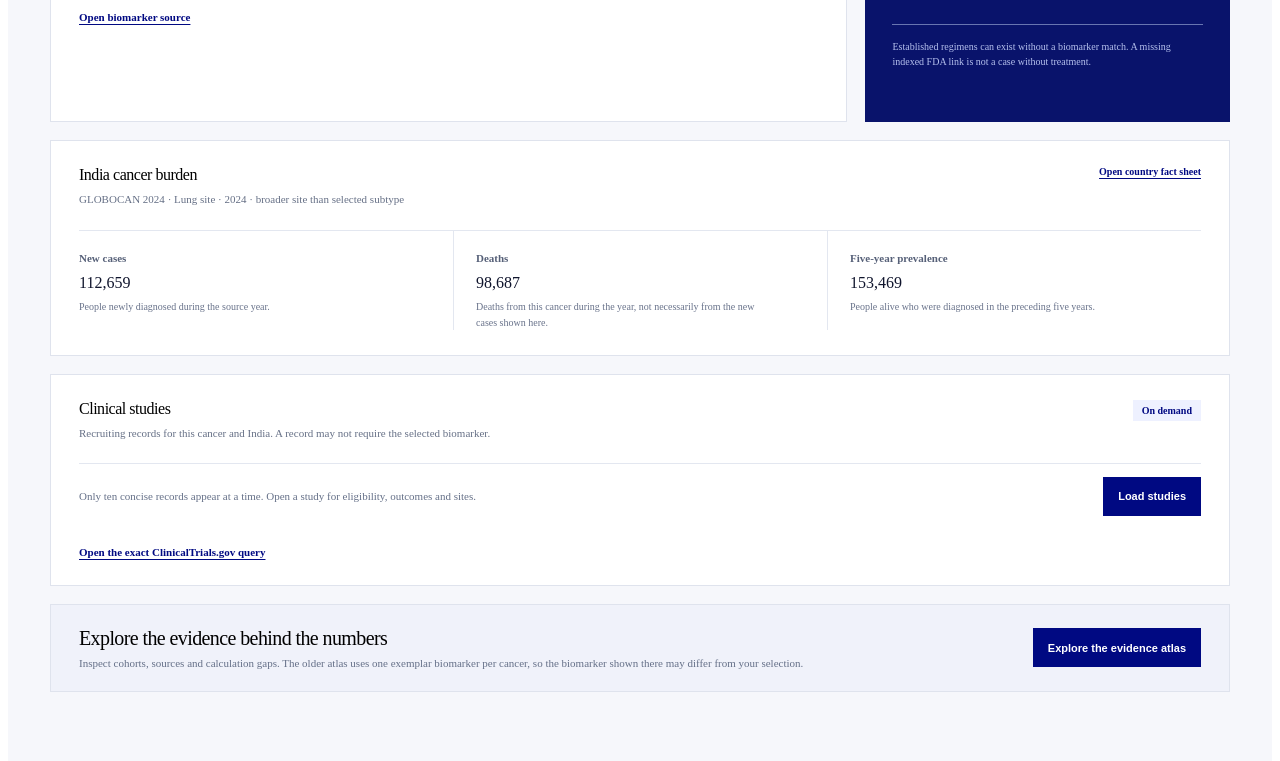
Test: discovery-first workspace › shows compact trials and opens full details on demand
(page scrolled)
Click the button "Load studies" at (1152, 496), box [1103,477,1201,516]
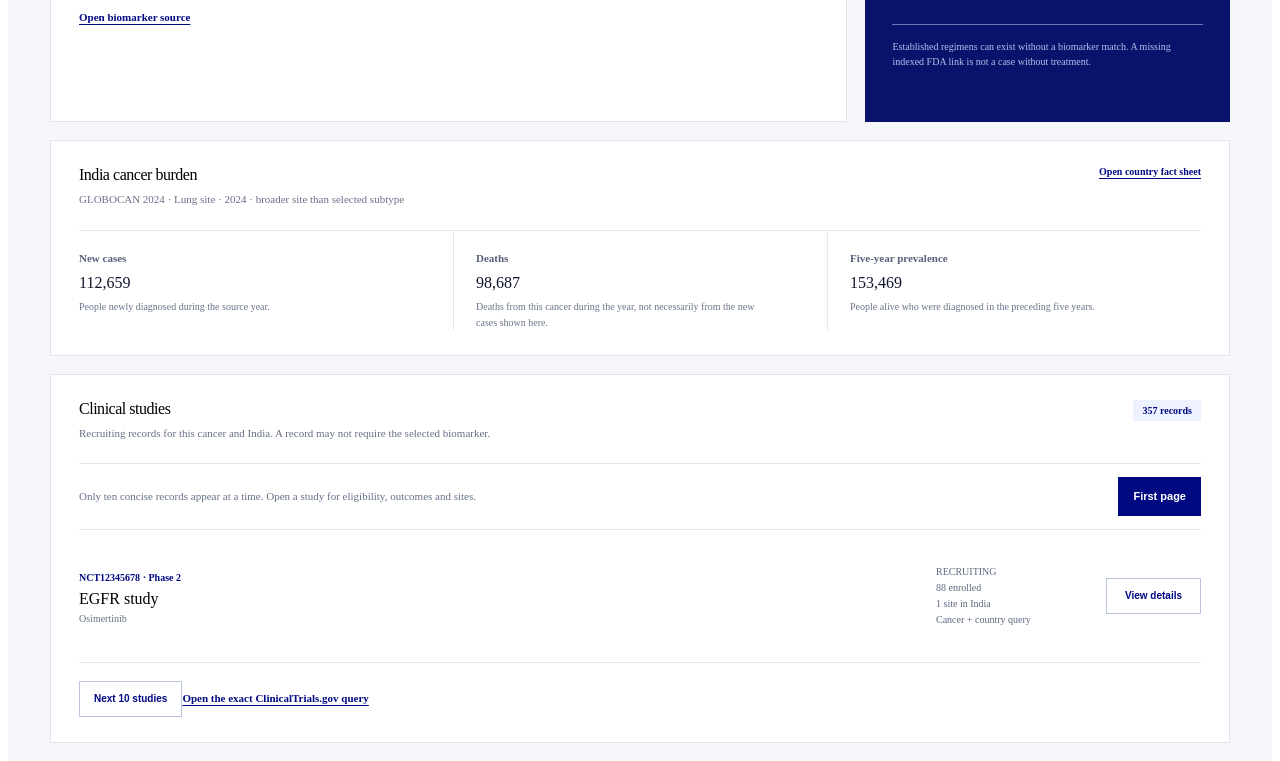
Expected: the text "357 records" is shown, [1134,400,1201,421]
Expected: the heading "EGFR study" is shown, [79,590,159,607]
Expected: the text "1 site in India" is shown, [936,598,991,609]
Click the button "View details" at (1154, 596), box [1106,578,1201,614]
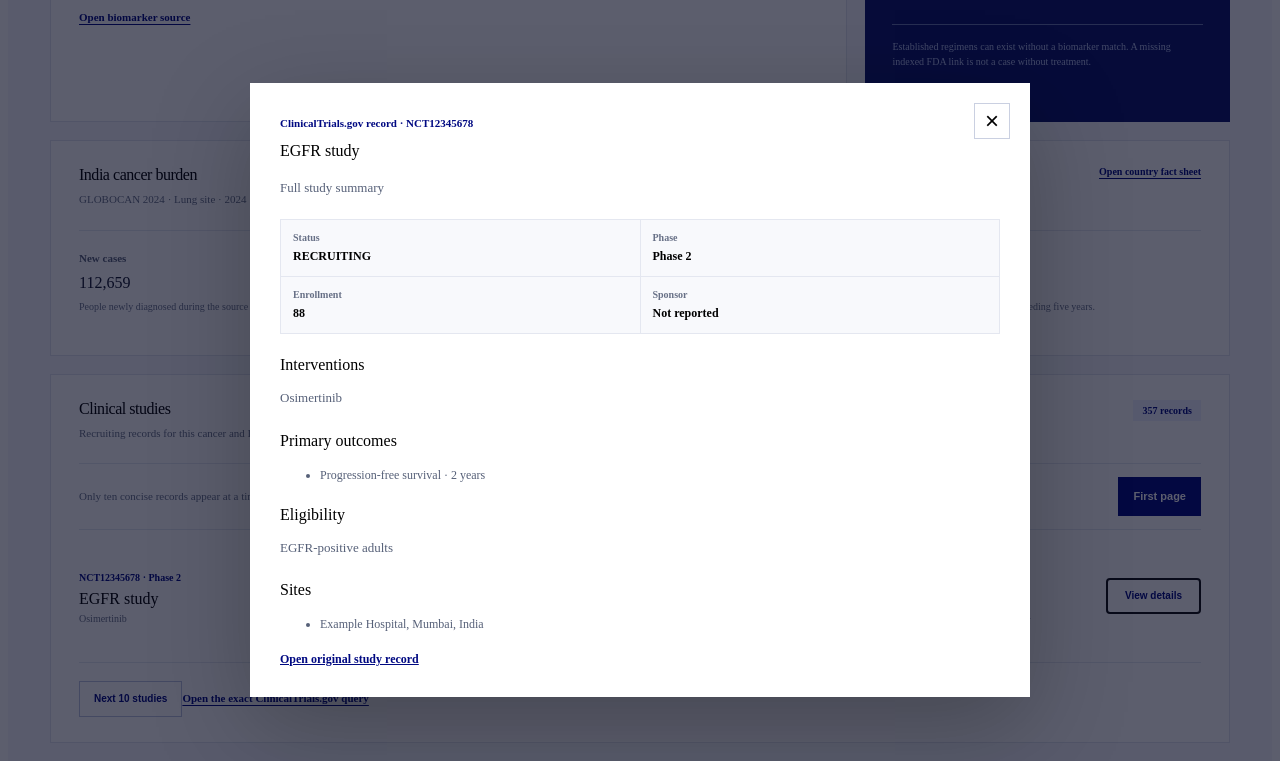
Expected: the dialog named "Clinical study details" is shown, [250,83,1030,697]
Expected: the text "EGFR-positive adults" is shown, [280,540,393,554]
Expected: the list item "Progression-free survival · 2 years" is shown, [320,468,485,482]
Press Escape
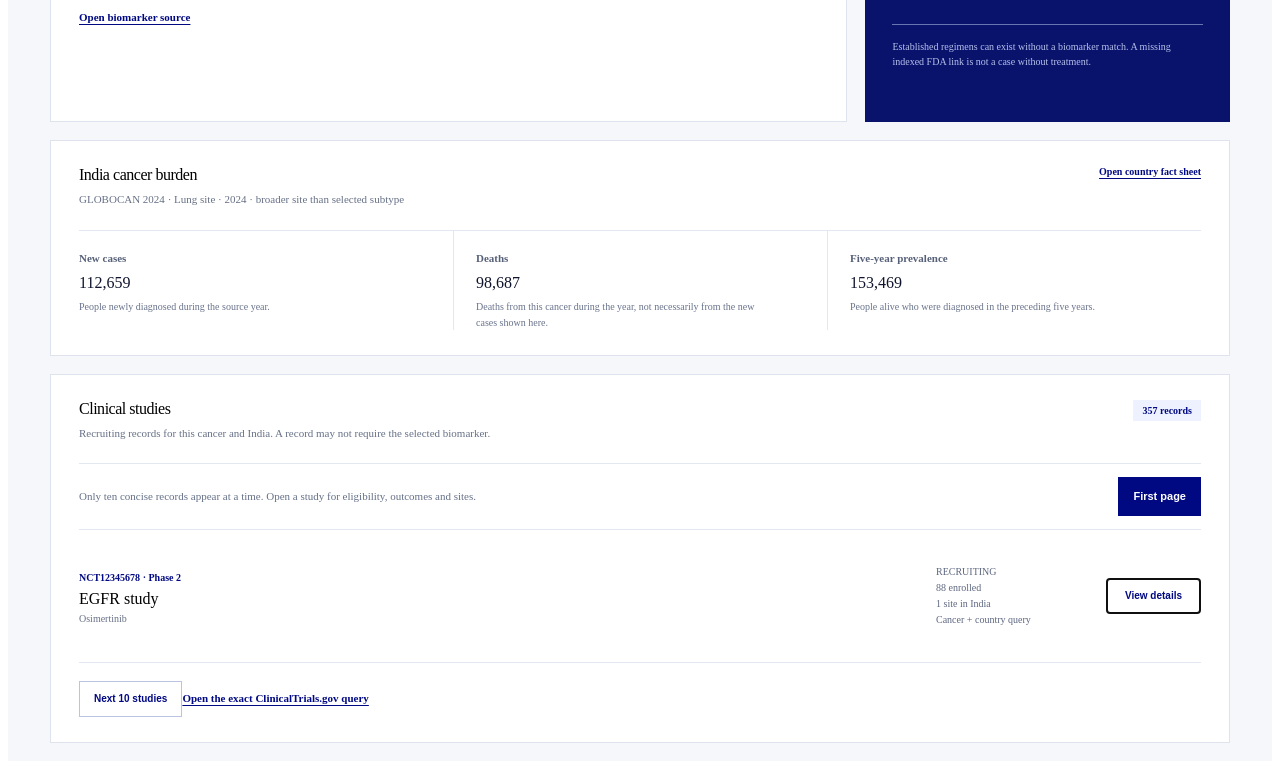
Click the button "Next 10 studies" at (131, 699), box [79,681,182,717]
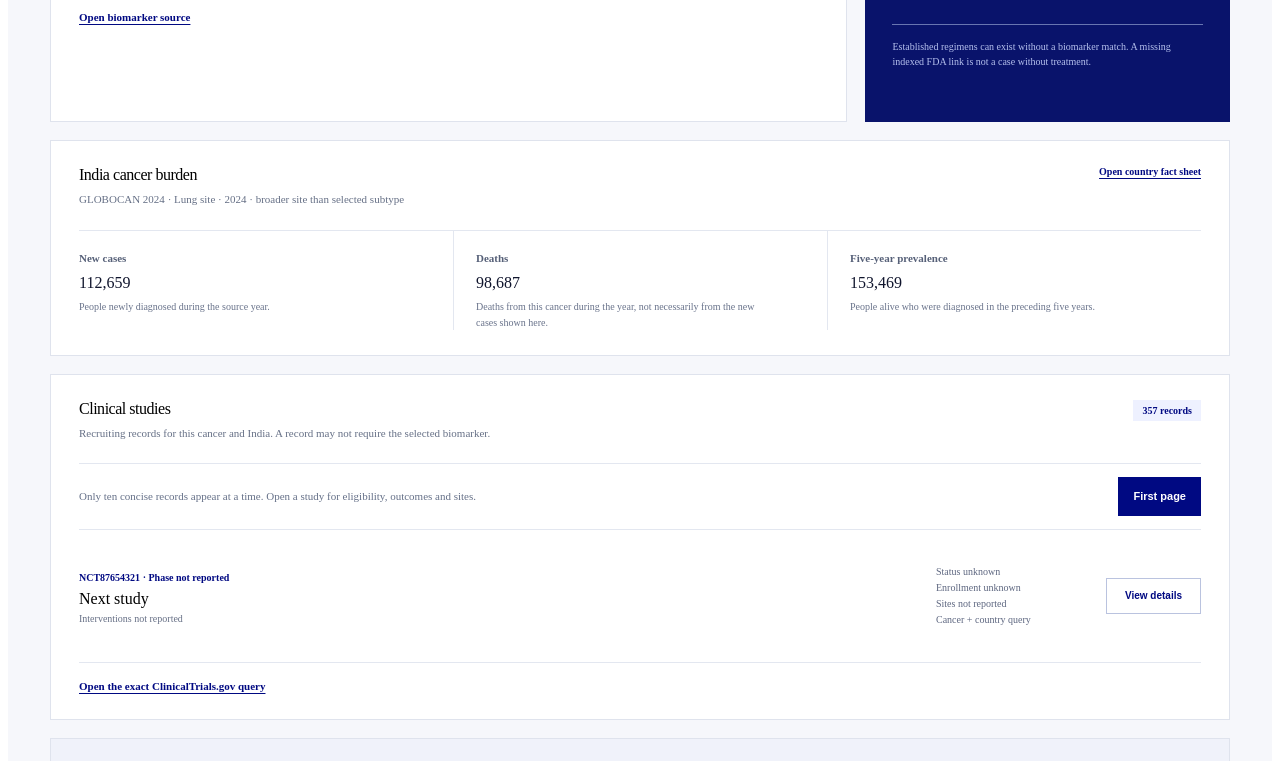
Expected: the heading "Next study" is shown, [79,590,149,607]
Expected: the heading "EGFR study" is gone
